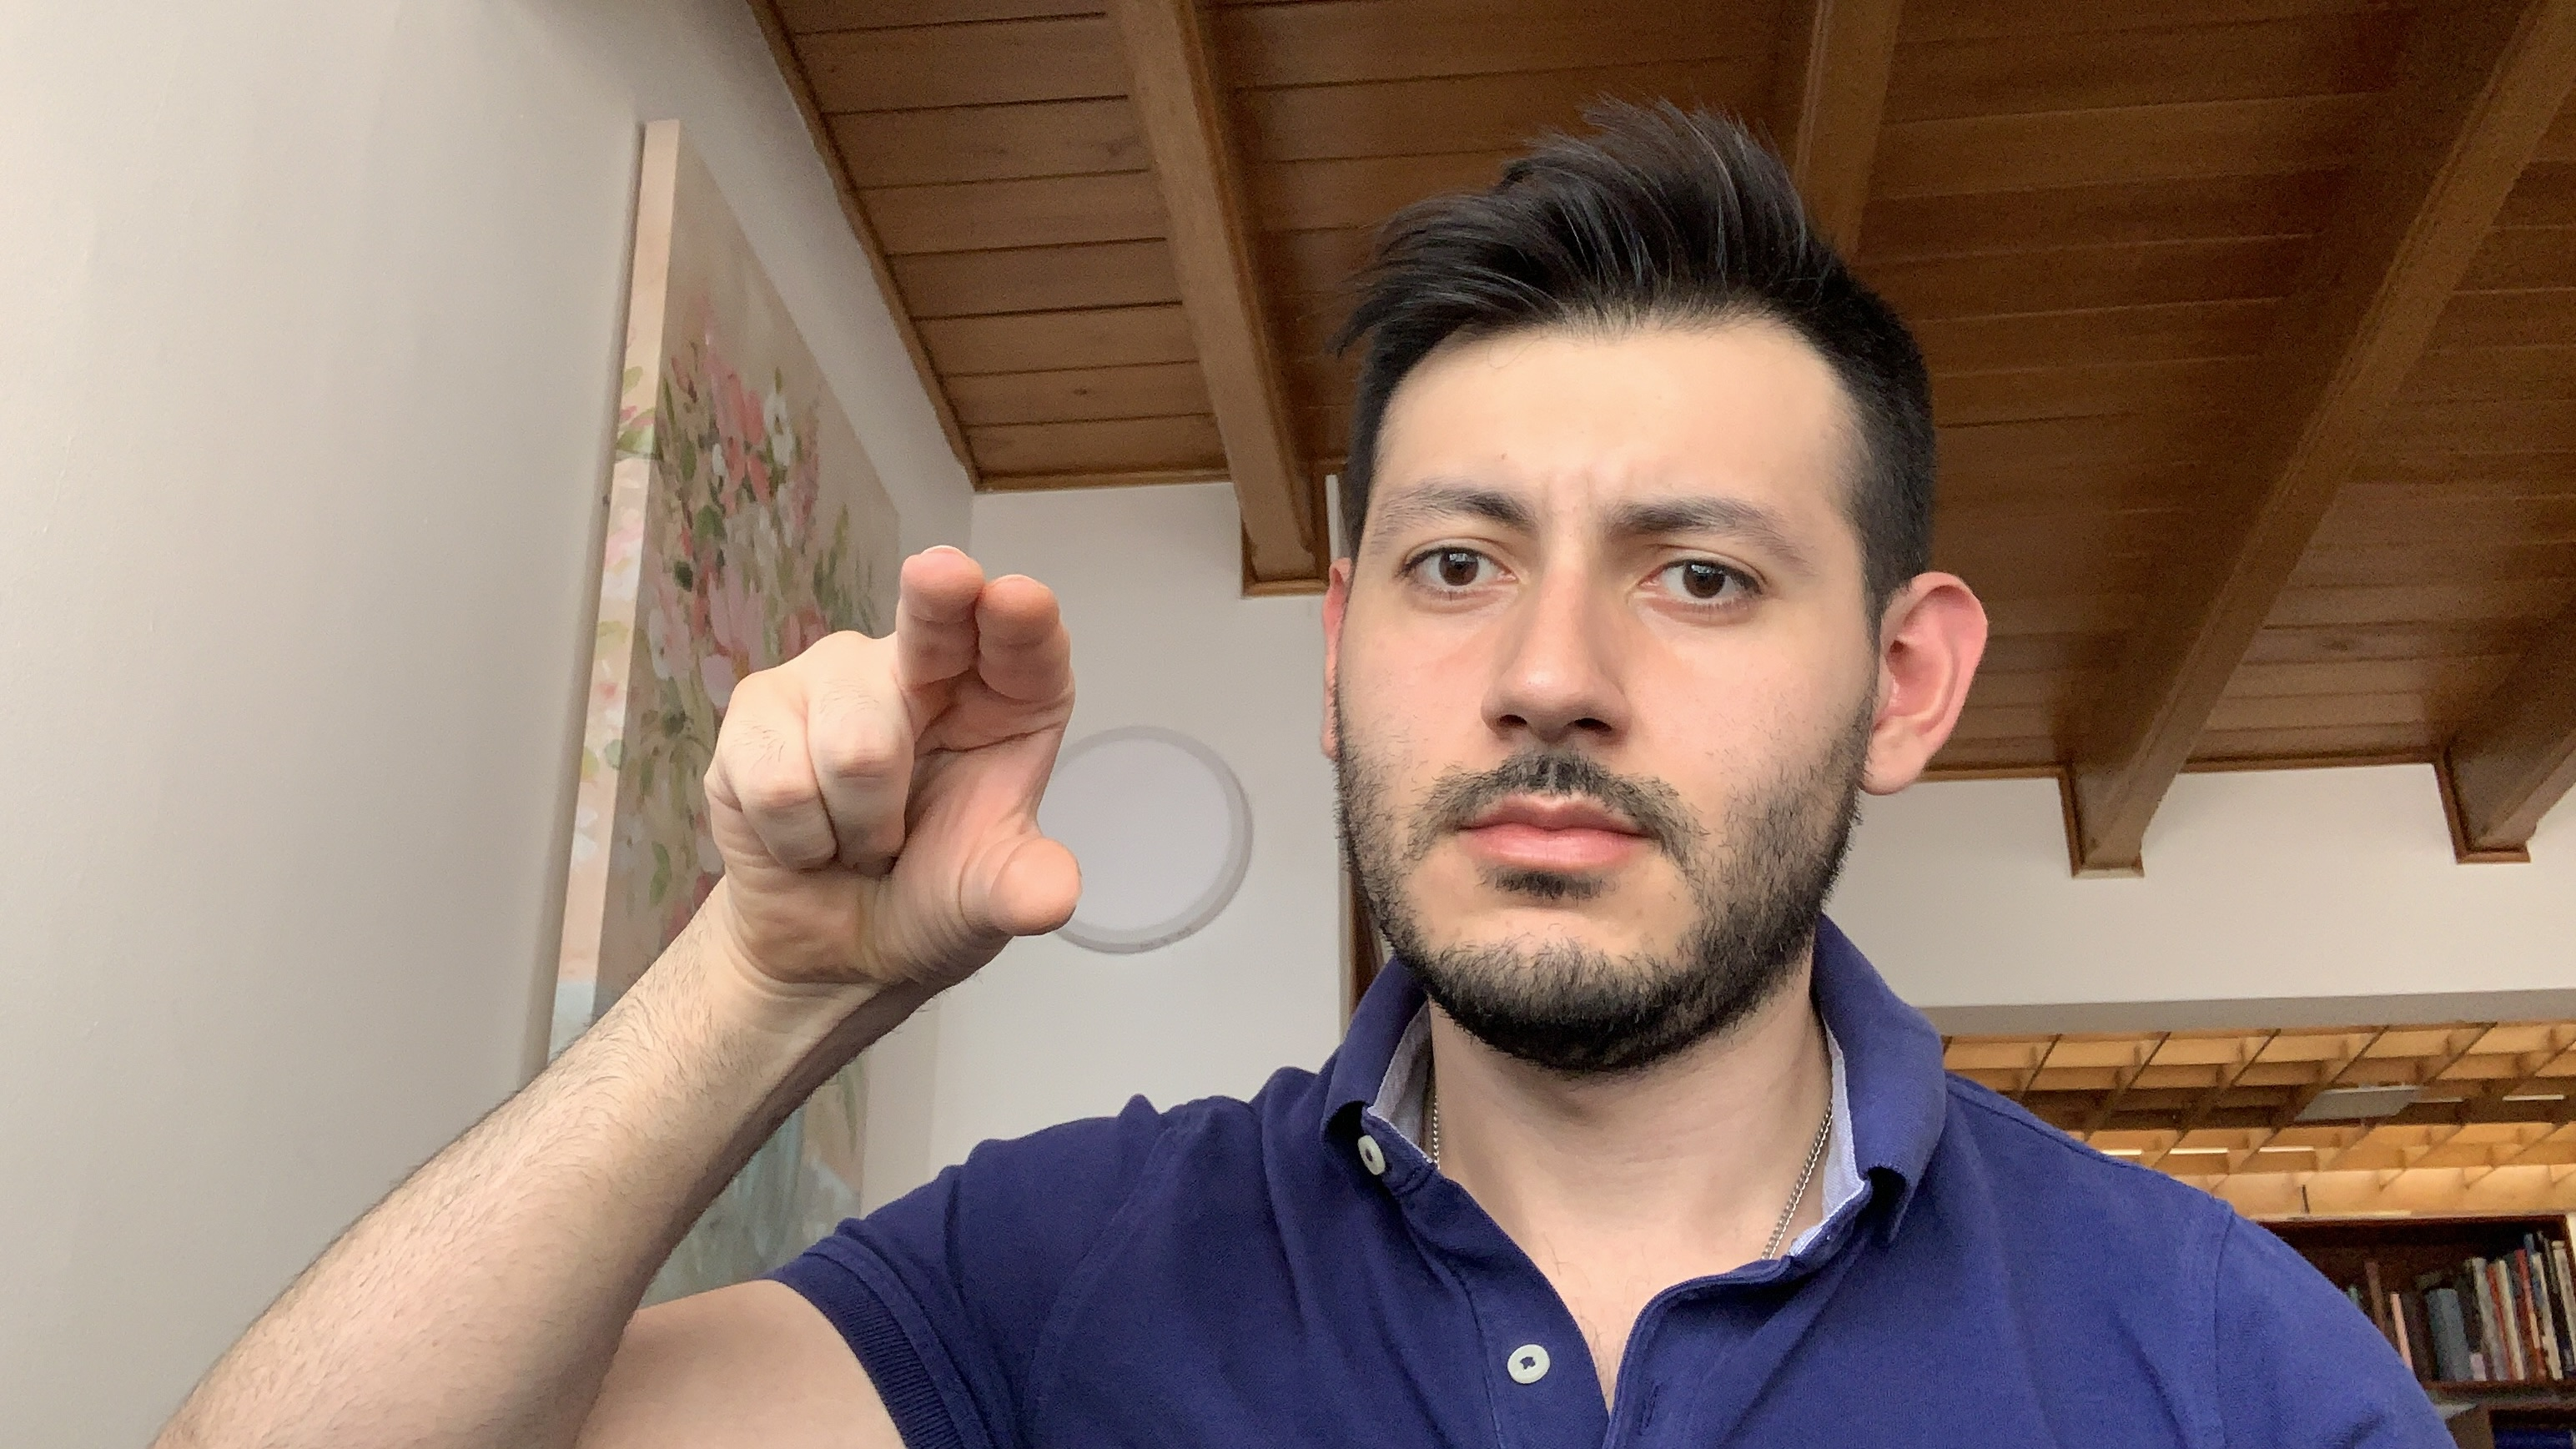No: (692, 536, 1095, 1037)
